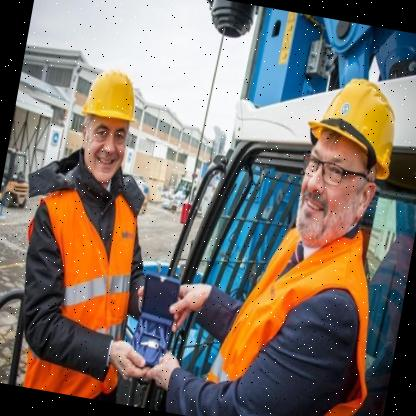capacete: (297, 67, 406, 185), (75, 62, 148, 136)
